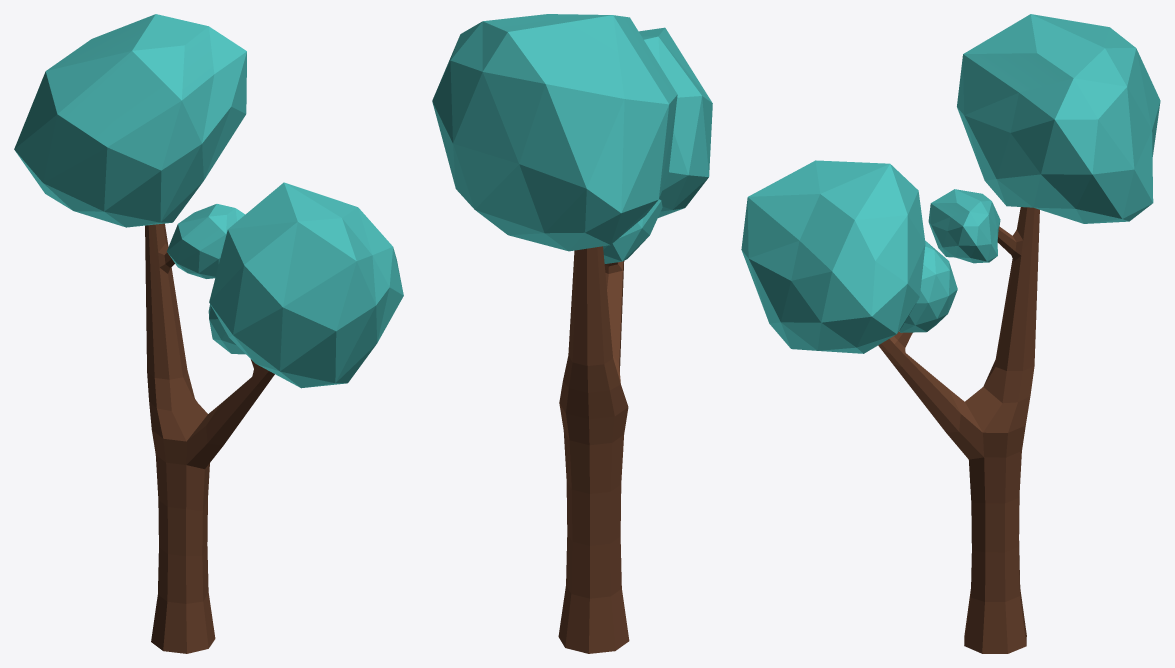
3 views of the same model, side by side, from view 1: azimuth 30°, elevation 25°; view 2: azimuth 150°, elevation 25°; view 3: azimuth 270°, elevation 25° (orthographic). The views are drawn at different scales.
Parts seen in each view (by area): view 1: t7-cyan; view 2: t7-cyan; view 3: t7-cyan.
Part boxes in pixels (box(x1,y1,x2,y2)): t7-cyan: box(14, 14, 403, 653); t7-cyan: box(432, 14, 712, 653); t7-cyan: box(741, 14, 1160, 653).
Size of the model in its own units: 454 by 1002 by 625.
